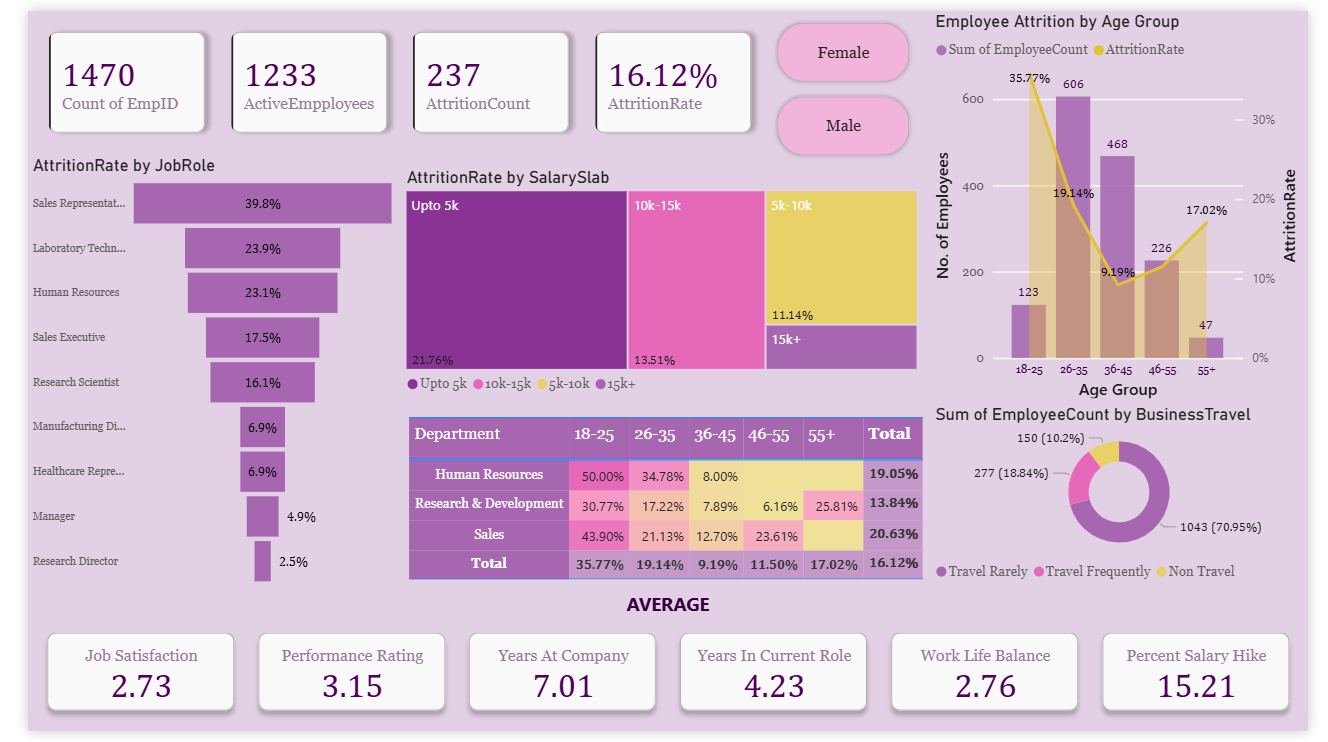

The page's visual inventory and layout, read from the dashboard file:
{"tool":"powerbi","page":{"name":"Page 1","canvas":[1280,720],"ordinal":0},"visuals":[{"type":"cardVisual","fields":{"Data":["CountNonNull(HR_Analytics.EmpID)","HR_Analytics.ActiveEmpployees","HR_Analytics.AttritionCount","HR_Analytics.AttritionRate"]},"box":[0,0,746.7,143.3],"z":0},{"type":"lineClusteredColumnComboChart","title":"Employee Attrition by Age Group","fields":{"Category":["HR_Analytics.AgeGroup"],"Y":["Divide(Sum(HR_Analytics.EmployeeCount), ScopedEval(Sum(HR_Analytics.EmployeeCount), []))"],"Y2":["HR_Analytics.AttritionRate"]},"box":[902.5,0,377.5,392.5],"z":1000},{"type":"funnel","fields":{"Category":["HR_Analytics.JobRole"],"Y":["HR_Analytics.AttritionRate"]},"box":[0,143.8,373.8,436.2],"z":2000},{"type":"cardVisual","title":"AVERAGE","fields":{"Data":["Avg(HR_Analytics.JobSatisfaction)","Avg(HR_Analytics.PerformanceRating)","Avg(HR_Analytics.YearsAtCompany)","Avg(HR_Analytics.YearsInCurrentRole)","Avg(HR_Analytics.WorkLifeBalance)","Avg(HR_Analytics.PercentSalaryHike)"]},"box":[0,580,1280,140],"z":3000},{"type":"advancedSlicerVisual","fields":{"Values":["HR_Analytics.Gender"]},"box":[737.5,0,156.2,156.2],"z":4000},{"type":"donutChart","fields":{"Category":["HR_Analytics.BusinessTravel"],"Y":["Sum(HR_Analytics.EmployeeCount)"]},"box":[902.5,392.5,377.5,187.5],"z":5000},{"type":"treemap","fields":{"Group":["HR_Analytics.SalarySlab"],"Values":["HR_Analytics.AttritionRate"]},"box":[373.8,156.2,520,236.2],"z":6000},{"type":"pivotTable","fields":{"Values":["HR_Analytics.AttritionRate"],"Columns":["HR_Analytics.AgeGroup"],"Rows":["HR_Analytics.Department"]},"box":[376.2,401.2,528.8,178.8],"z":7000}]}

Visuals, with their boxes in screenshot pixels (x1, y1, x2, y2), scaled from the page's 1280x720 canvas onto the 1328x742 screenshot:
cardVisual - CountNonNull(HR_Analytics.EmpID) x HR_Analytics.ActiveEmpployees: [left=0, top=0, right=775, bottom=148]
"Employee Attrition by Age Group" lineClusteredColumnComboChart: [left=936, top=0, right=1327, bottom=404]
funnel - HR_Analytics.JobRole x HR_Analytics.AttritionRate: [left=0, top=148, right=388, bottom=598]
"AVERAGE" cardVisual: [left=0, top=598, right=1327, bottom=741]
advancedSlicerVisual - HR_Analytics.Gender: [left=765, top=0, right=927, bottom=161]
donutChart - HR_Analytics.BusinessTravel x Sum(HR_Analytics.EmployeeCount): [left=936, top=404, right=1327, bottom=598]
treemap - HR_Analytics.SalarySlab x HR_Analytics.AttritionRate: [left=388, top=161, right=927, bottom=404]
pivotTable - HR_Analytics.AttritionRate x HR_Analytics.AgeGroup: [left=390, top=413, right=939, bottom=598]
